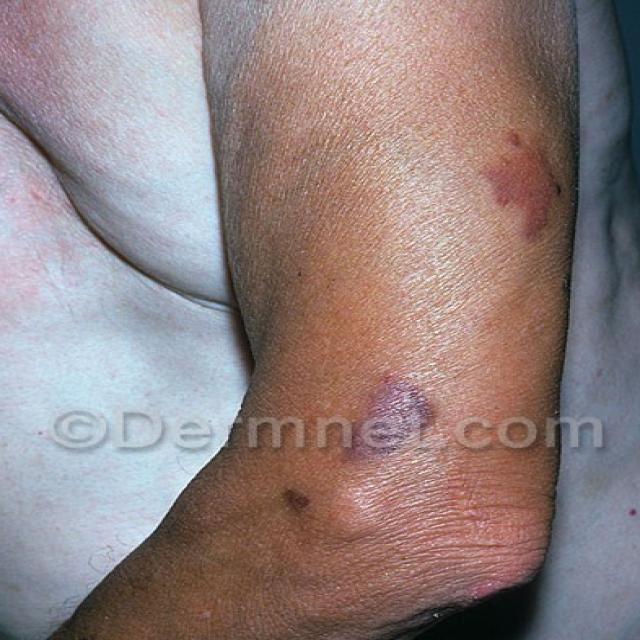Vascular Tumors: (445, 118, 598, 275), (305, 382, 464, 469), (272, 479, 318, 519)
